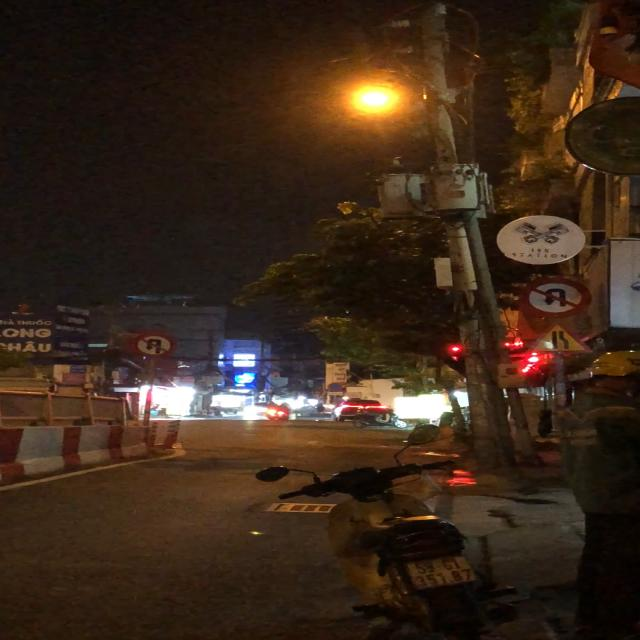Bien bao cam quay dau xe: (518, 275, 595, 316), (127, 331, 177, 358)
Bien bao duong bi thu hep: (522, 320, 596, 357)
